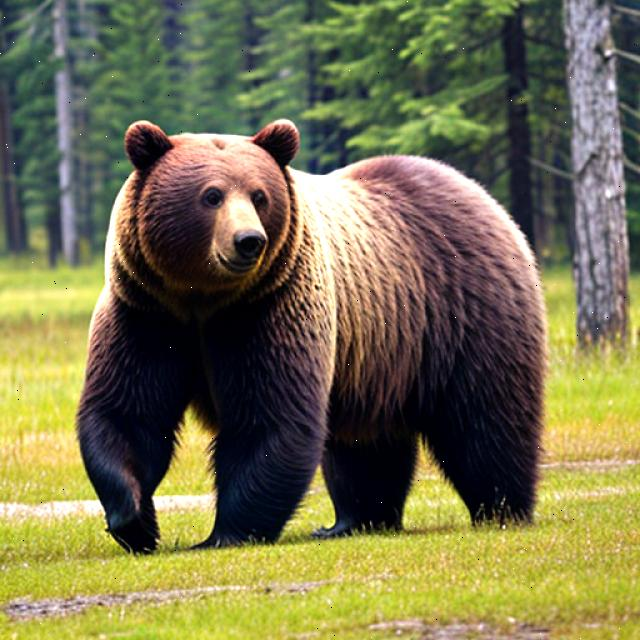bear: (88, 109, 317, 318)
